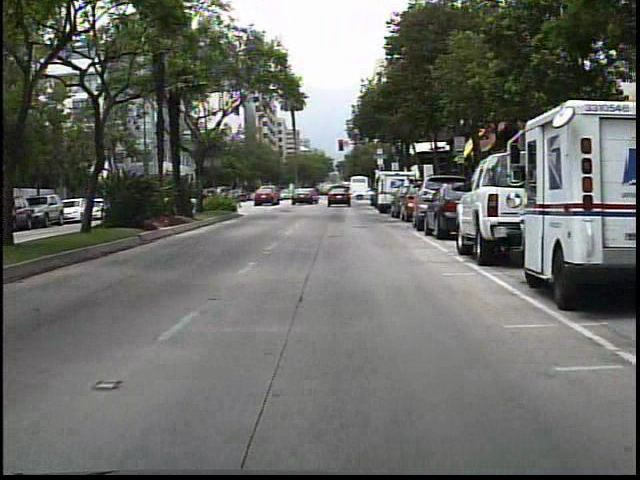person: (320, 181, 336, 205), (312, 184, 325, 204)
